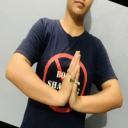hand: (56, 50, 79, 109), (70, 53, 80, 113)
